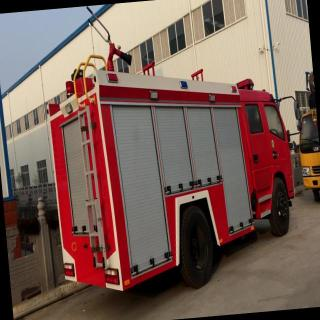Fire_truck: (37, 0, 313, 301)
